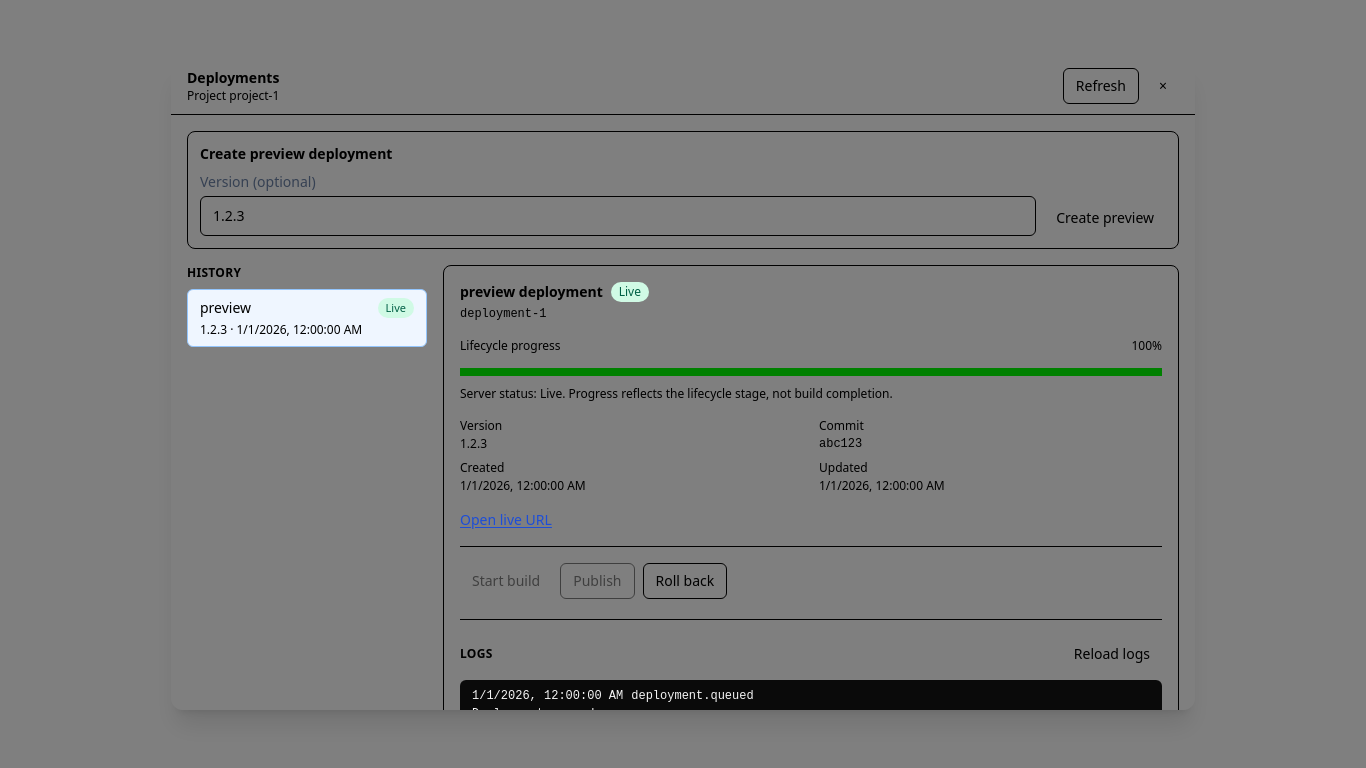
Test case: DeploymentPanel › surfaces the adapter conflict for rollback without claiming success
The width and height of the screenshot is (1366, 768).
What coordinates should you click on to do the following:
click the button "Roll back"
I would click on:
 (685, 581)
Its box is top-left (642, 563), bottom-right (727, 599).
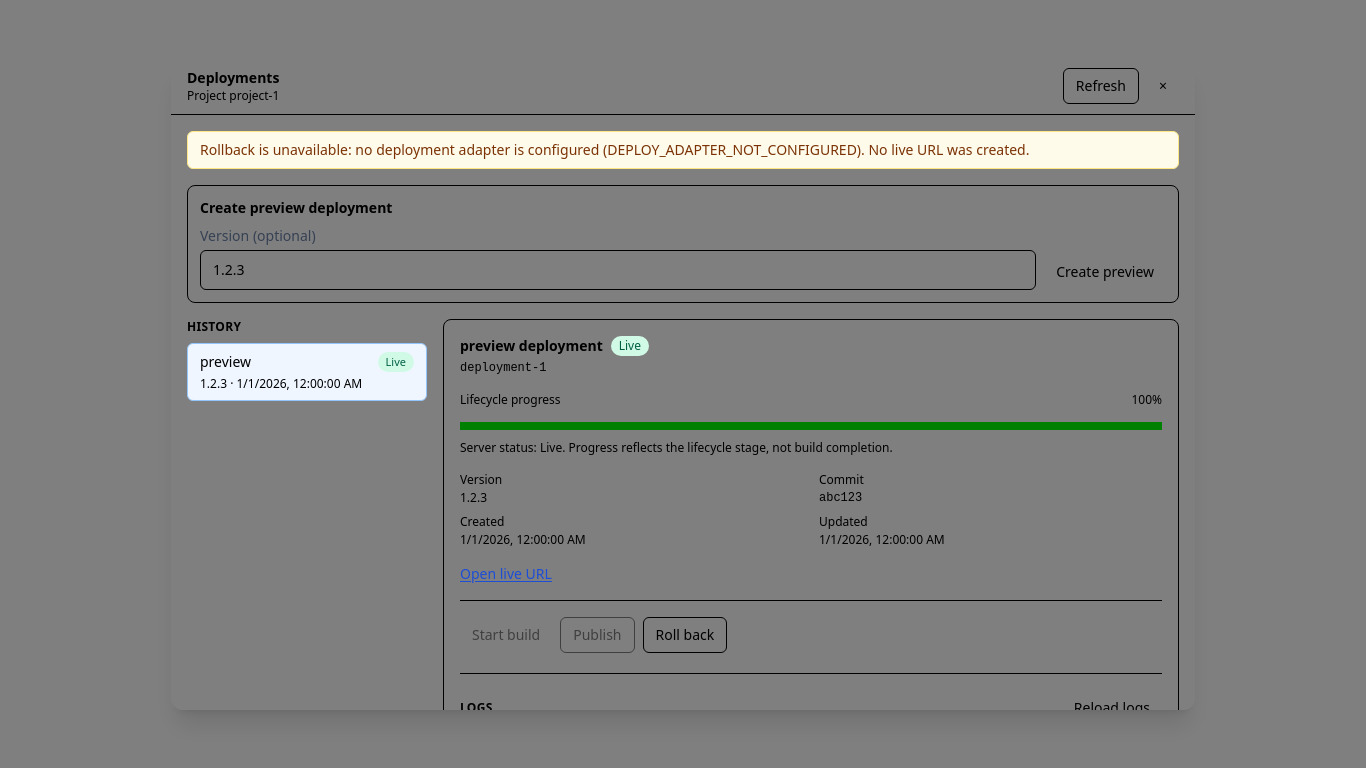
expect the message shows "Rollback is unavailable: no deployment adapter is configured": met, box top-left (200, 140), bottom-right (1030, 159)
expect the message shows "DEPLOY_ADAPTER_NOT_CONFIGURED": met, box top-left (200, 140), bottom-right (1030, 159)
expect the message shows "No live URL was created": met, box top-left (200, 140), bottom-right (1030, 159)
